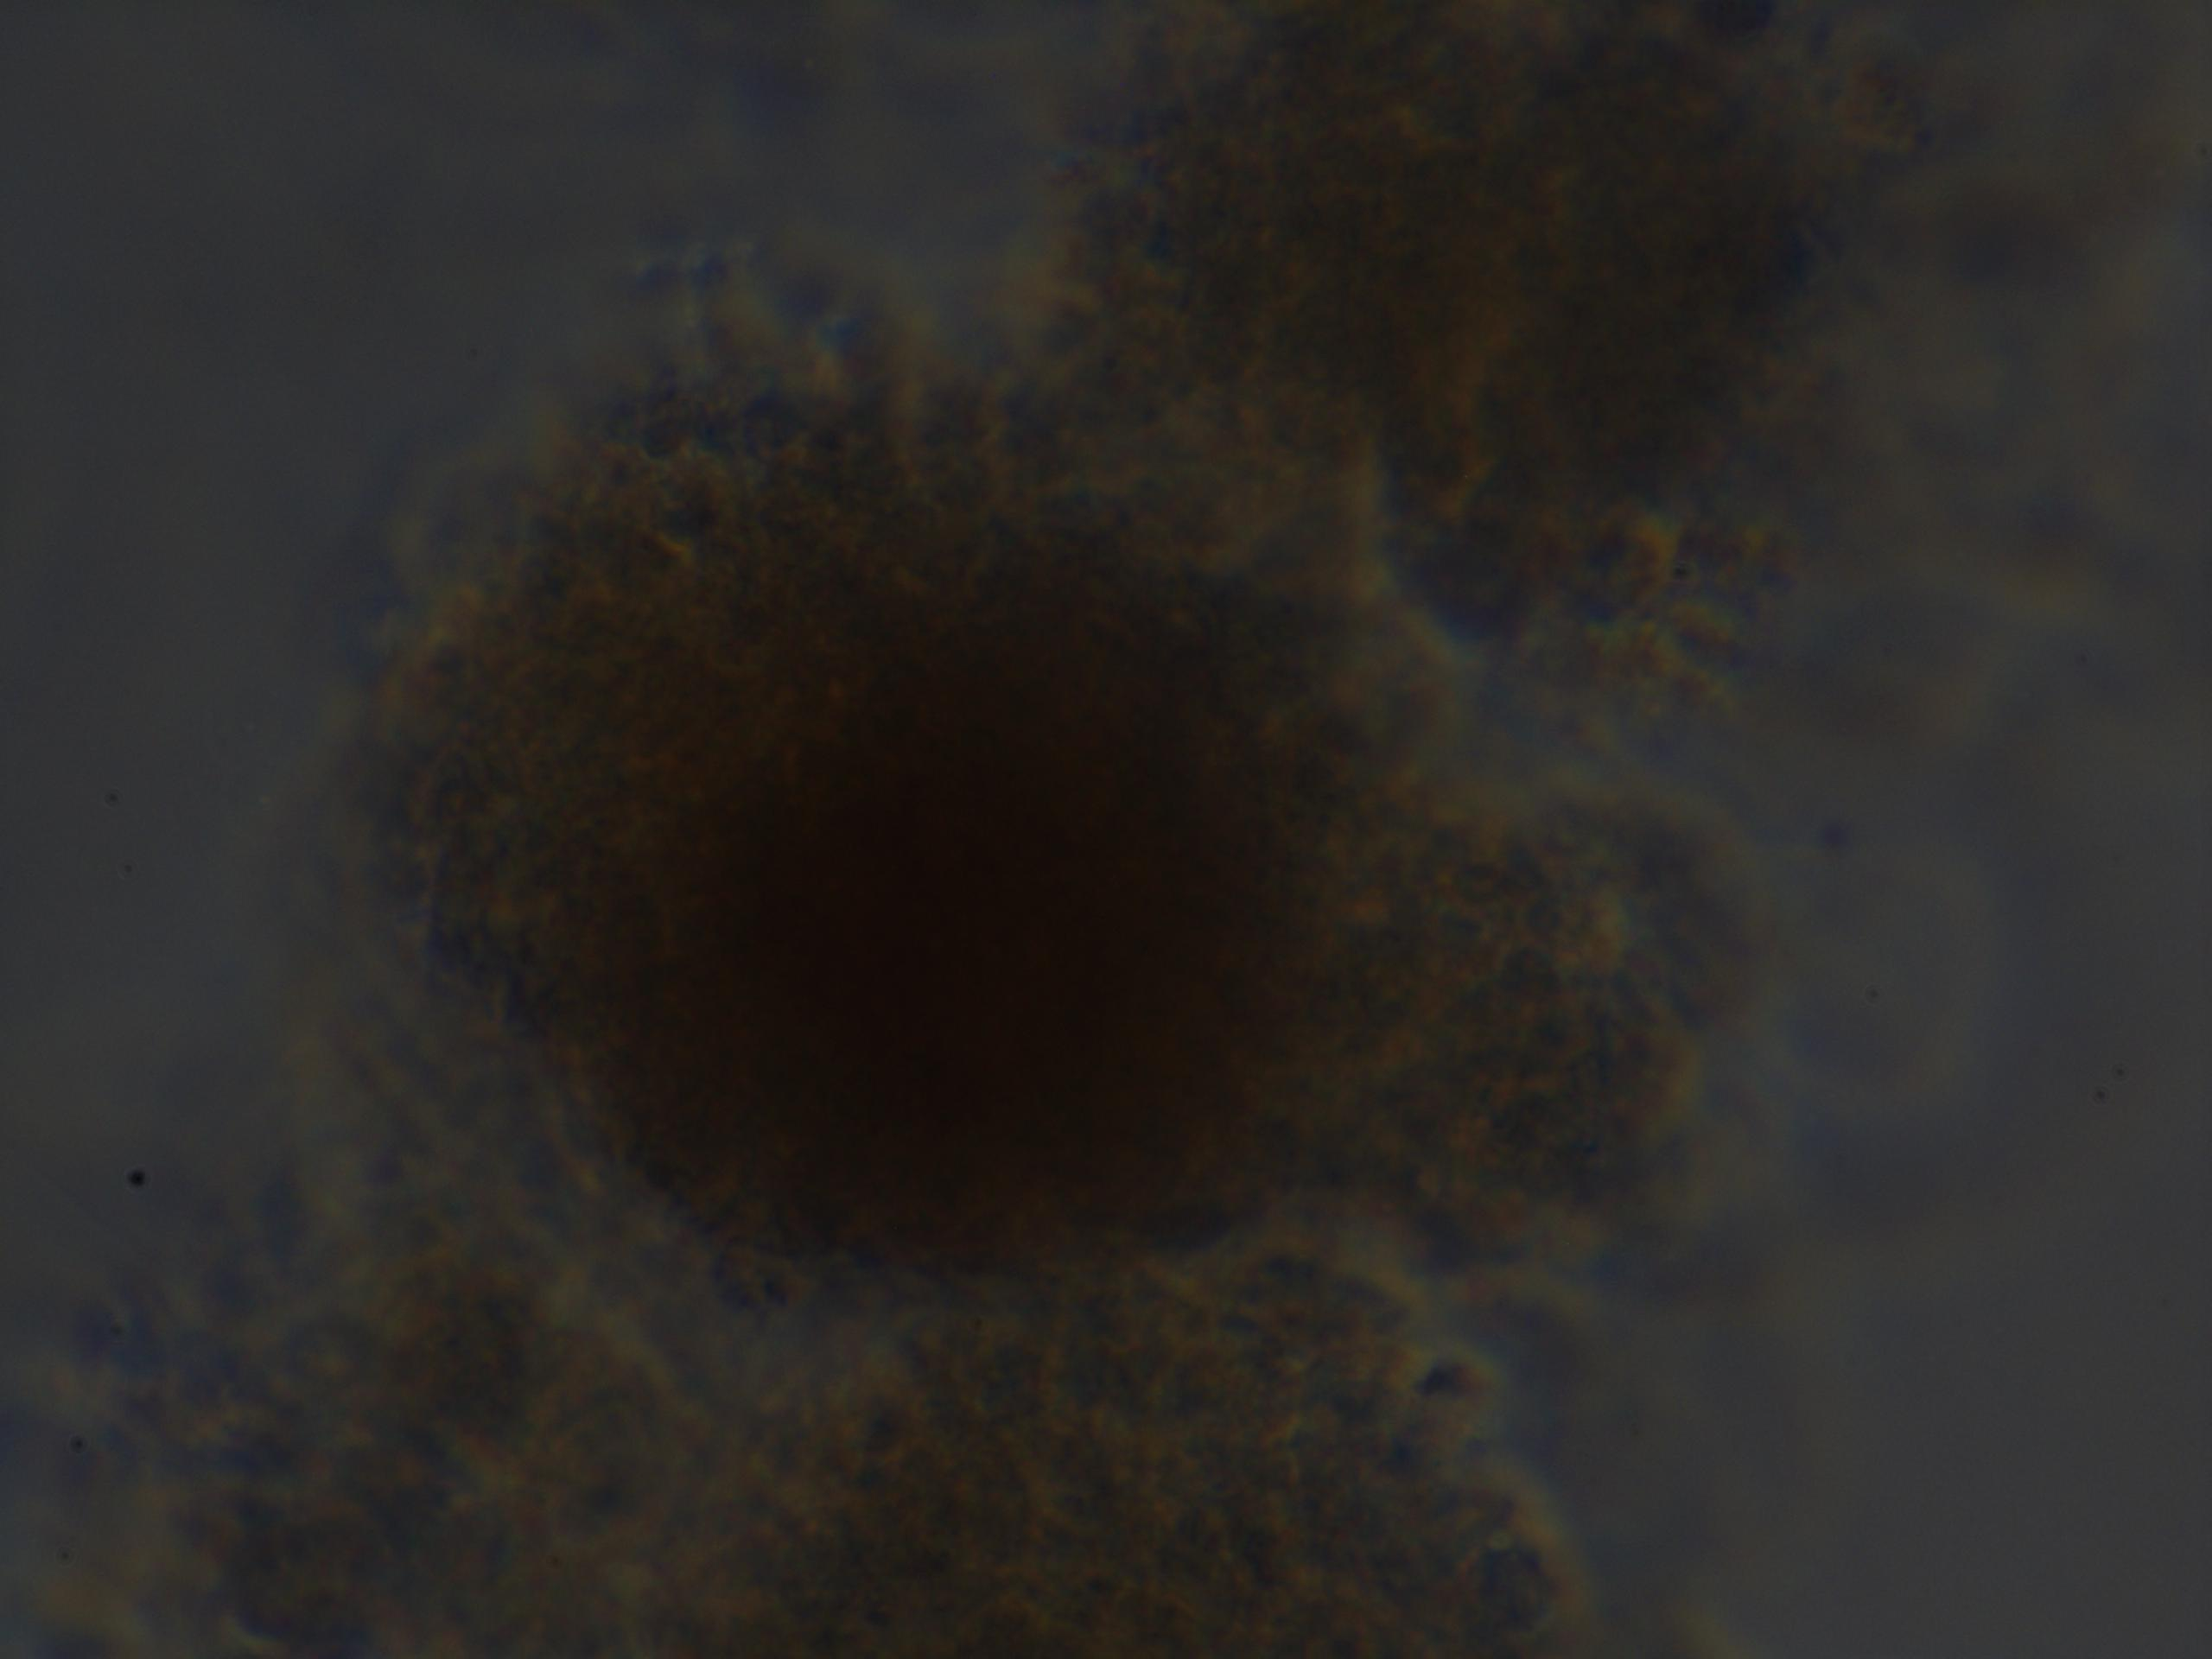spherical_floc: (359, 286, 1648, 1340)
